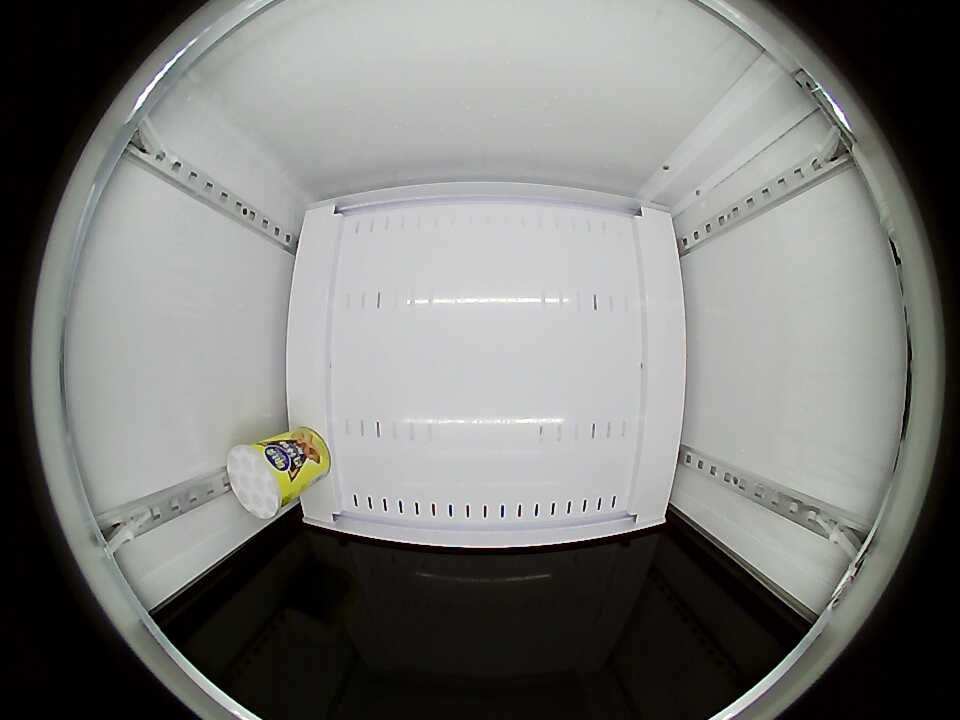kebike: (226, 440, 292, 519)
